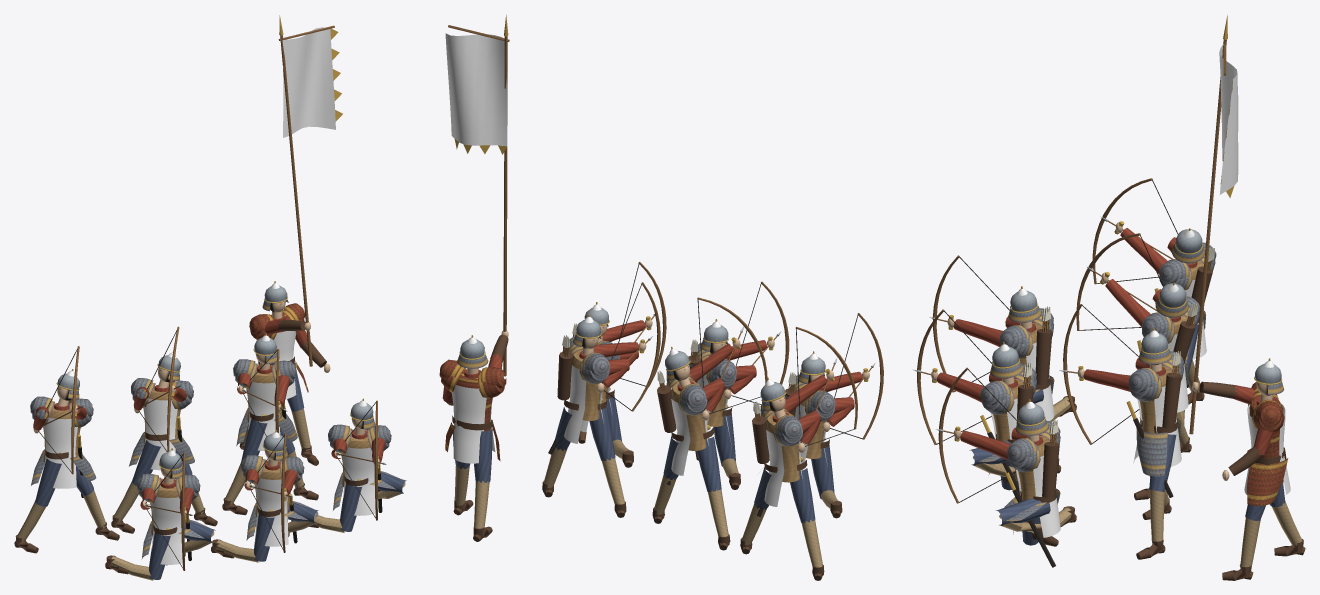
The model's file is Unit_Archer.glb.
The picture shows the model from 3 angles, left to right: view 1: azimuth 30°, elevation 25°; view 2: azimuth 150°, elevation 25°; view 3: azimuth 270°, elevation 25°; orthographic projection. The views are drawn at different scales.
Visible parts, largest first — view 1: Unit_Archer; view 2: Unit_Archer; view 3: Unit_Archer.
Part boxes in pixels (box(x1,y1,x2,y2)): Unit_Archer: box(14, 15, 406, 580); Unit_Archer: box(439, 15, 883, 580); Unit_Archer: box(913, 15, 1305, 580).
Size of the model in its own units: 3.84 by 4.99 by 3.25.
Materials: 2 (1 with a texture image).
